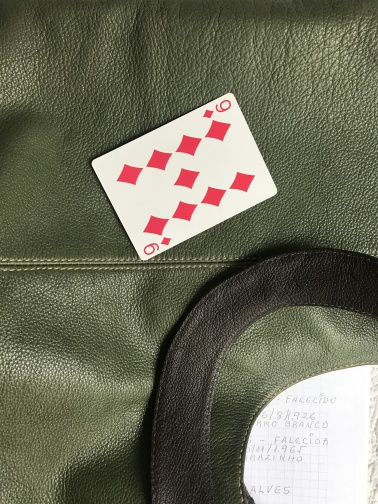nine: (90, 92, 278, 262)
